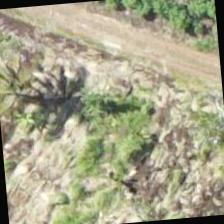Kelapa_Sawit: (6, 44, 104, 142)
